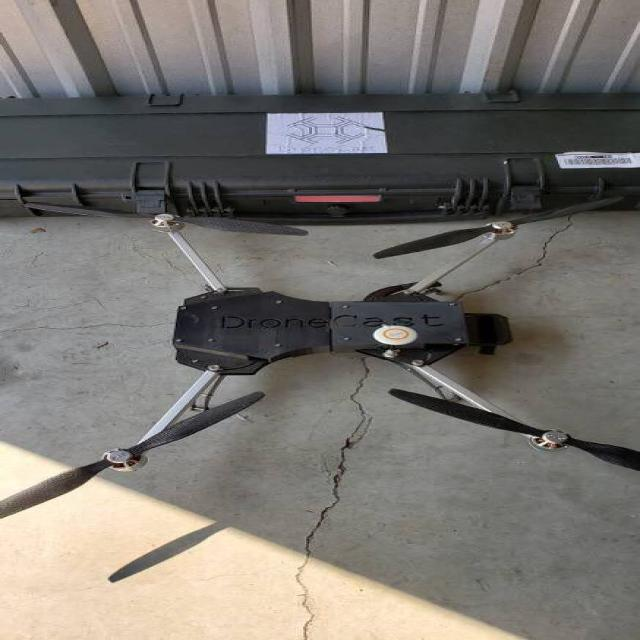drone: (4, 177, 640, 542)
